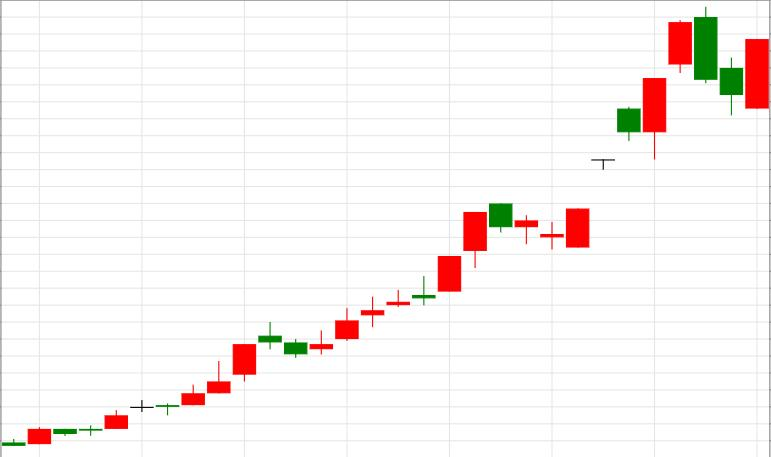bearish_engulfing_fall: (439, 6, 717, 292)
